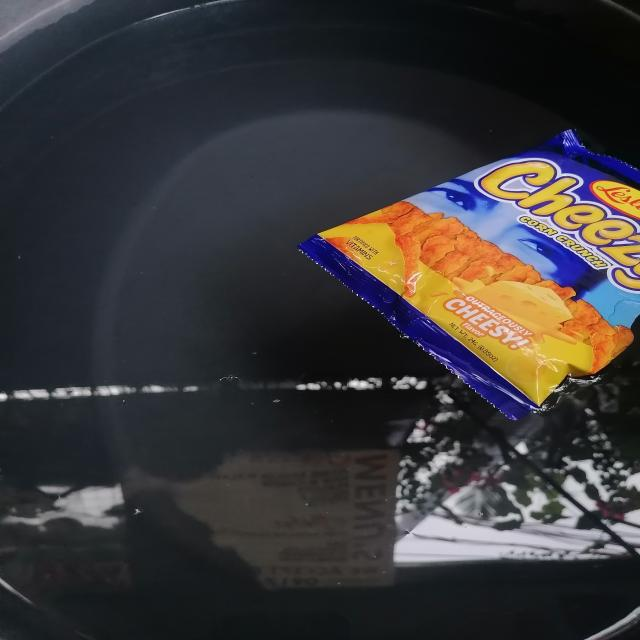Plastic Wrapper: (300, 130, 640, 420)
